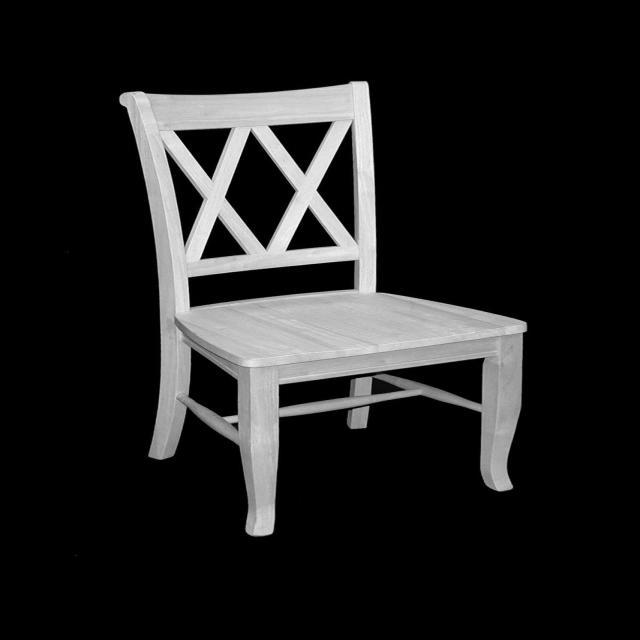chair: (117, 82, 534, 534)
